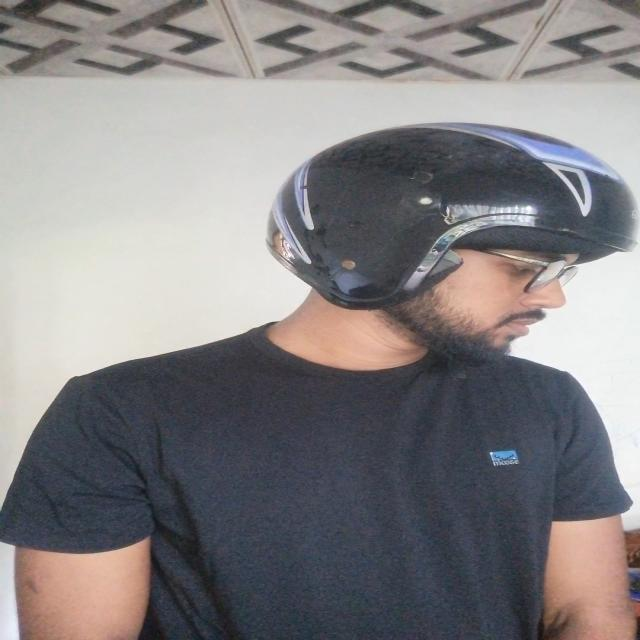Helmet_Wearer: (232, 106, 636, 407)
Person: (16, 106, 639, 640)
